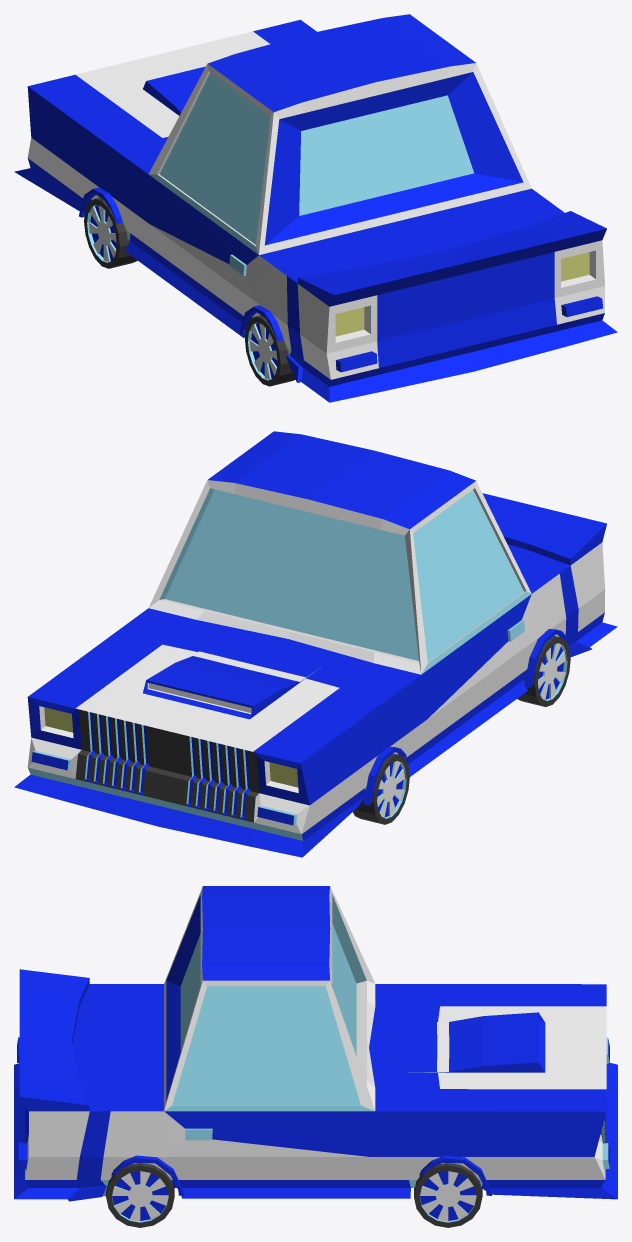
The model's file is car_blue.fbx.
3 views of the same model, one above another, from view 1: azimuth 30°, elevation 25°; view 2: azimuth 150°, elevation 25°; view 3: azimuth 270°, elevation 25° (orthographic). The views are drawn at different scales.
Parts seen in each view (by area): view 1: car; view 2: car; view 3: car.
Boxes of the visible parts, x1,y1,x2,y2 form: car: (14,14,617,402); car: (14,431,617,857); car: (14,886,617,1227).
Bounding box in the file's own units: 143 × 112 × 264.
